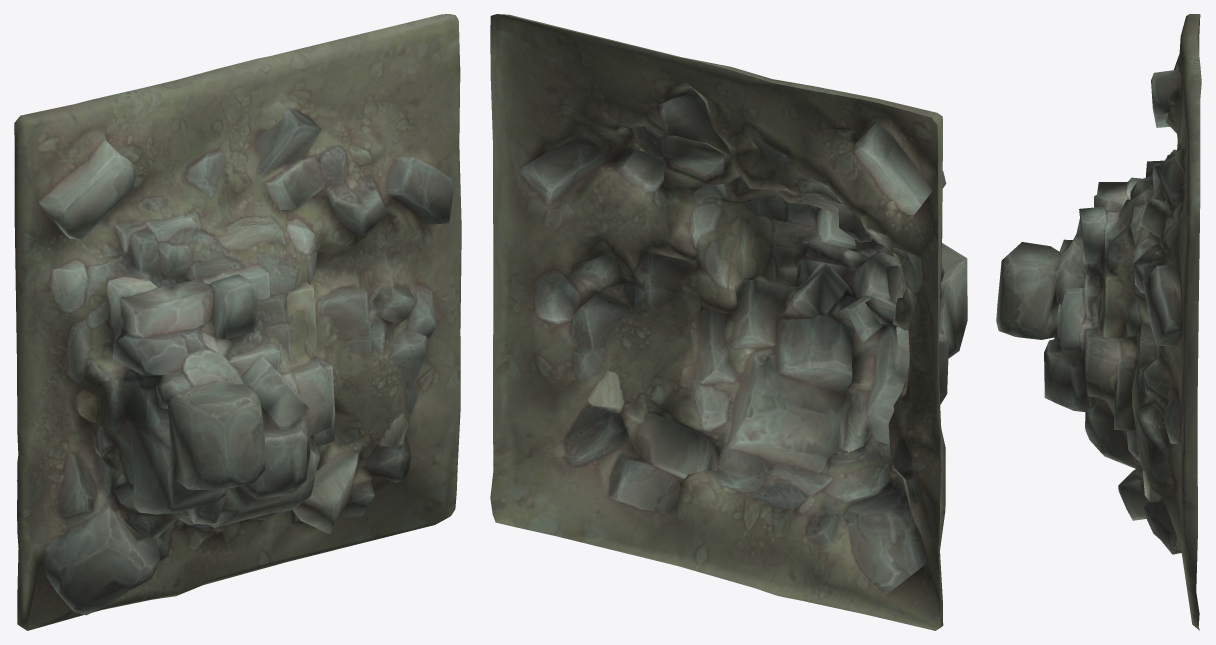
File: WallRubble_A.fbx
3 renders of one model, left to right at view 1: azimuth 30°, elevation 25°; view 2: azimuth 150°, elevation 25°; view 3: azimuth 270°, elevation 25°, orthographic. The views are drawn at different scales.
Visible parts, largest first — view 1: WallRubble_A; view 2: WallRubble_A; view 3: WallRubble_A.
Boxes of the visible parts, x1,y1,x2,y2 form: WallRubble_A: (14, 14, 461, 630); WallRubble_A: (490, 14, 967, 630); WallRubble_A: (996, 14, 1201, 630).
Size of the model in its own units: 810 by 897 by 378.
